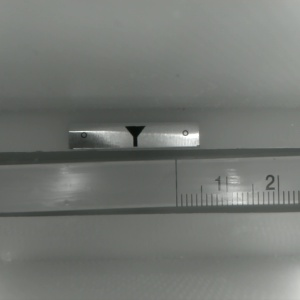1: (214, 177, 220, 192)
2: (265, 175, 274, 190)
finger: (125, 126, 144, 144)
